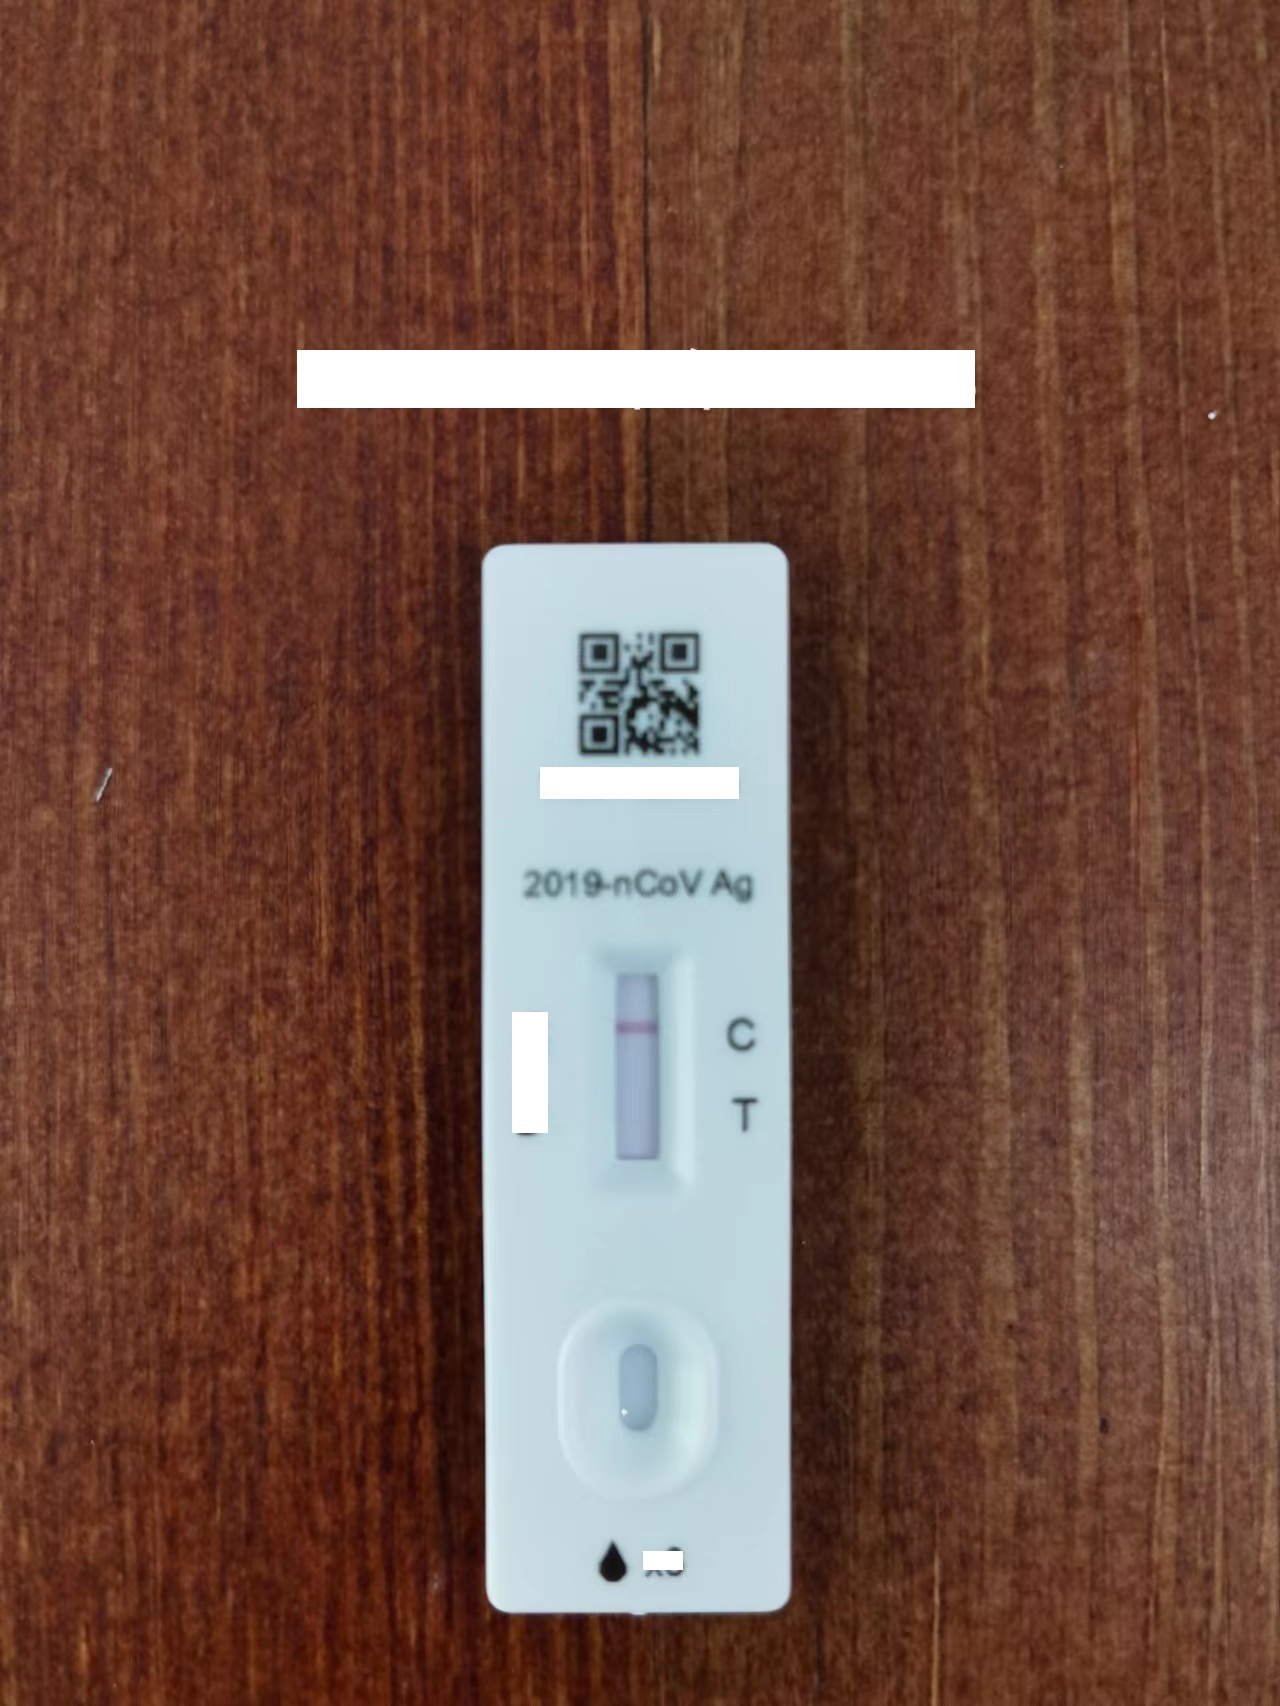negative: (594, 945, 686, 1184)
